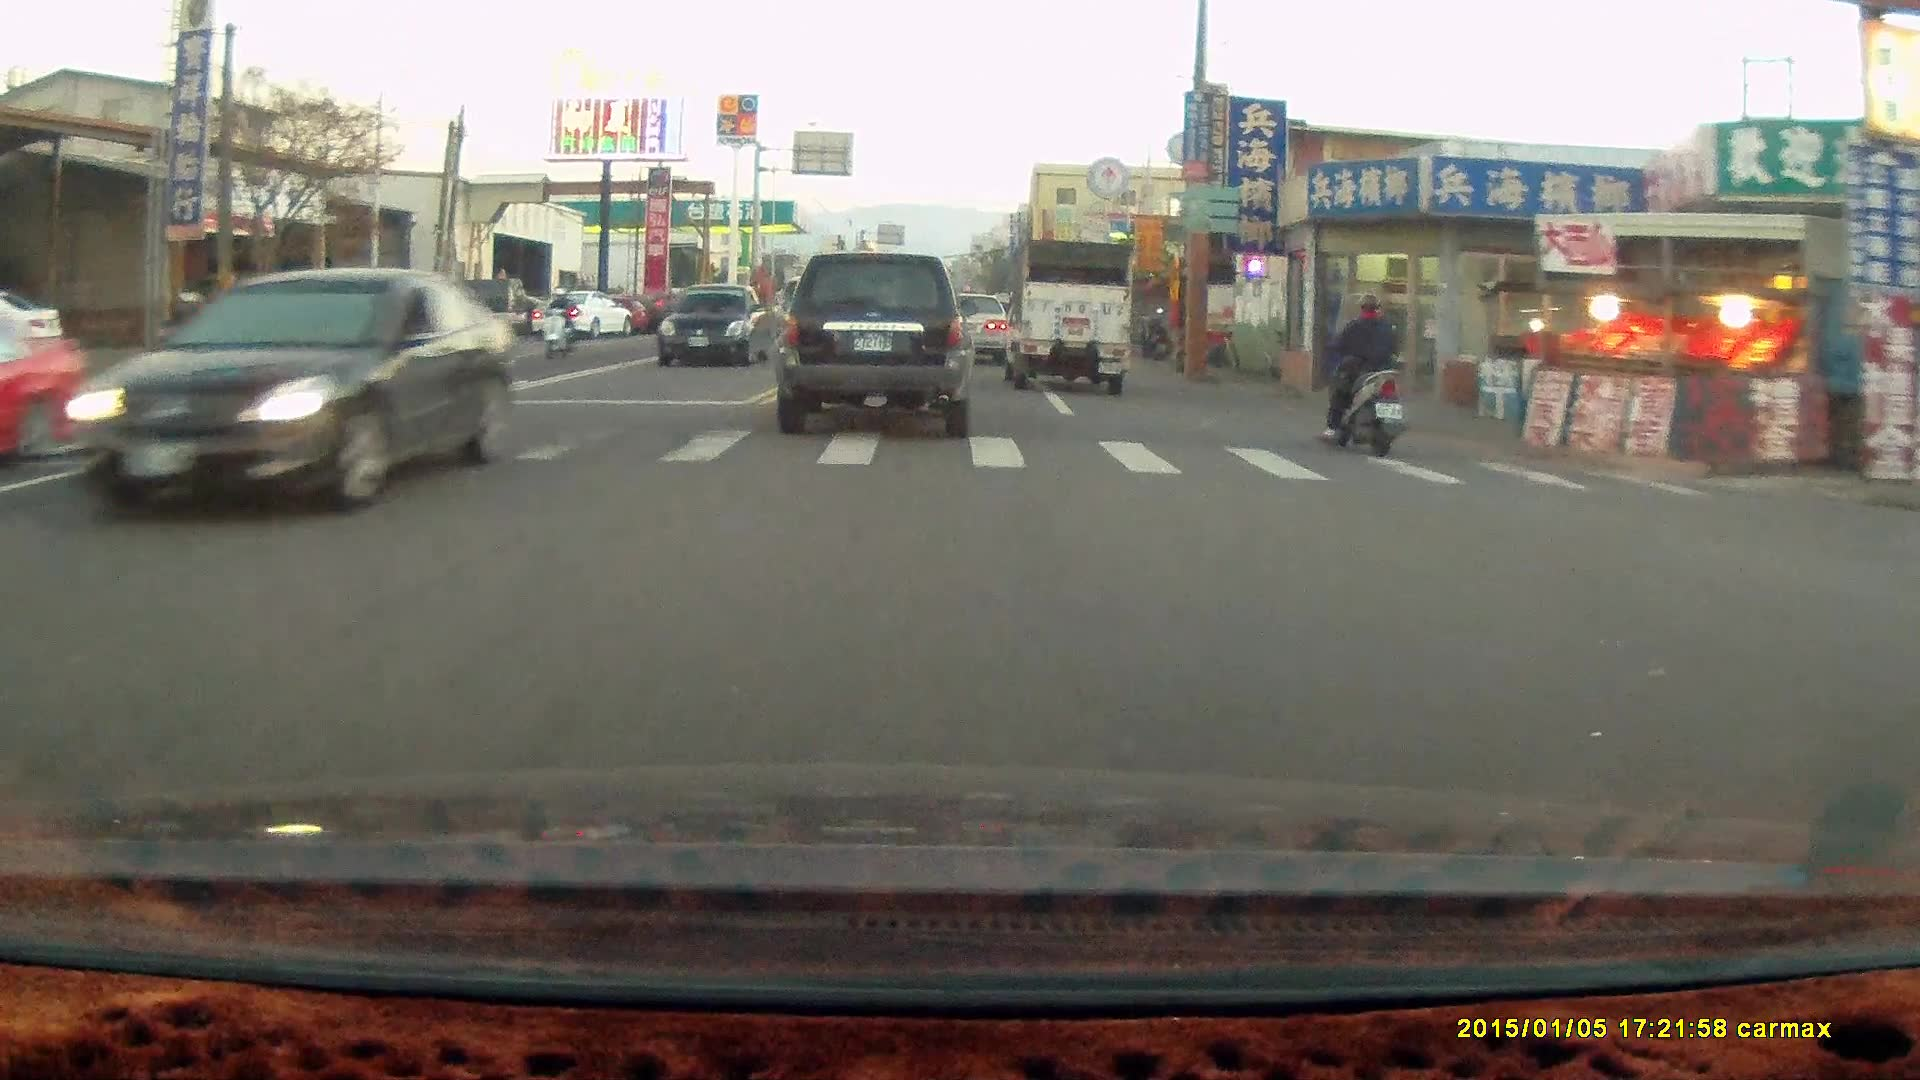rider: (1316, 292, 1408, 458), (538, 282, 579, 358)
vehicle: (57, 266, 510, 516), (774, 251, 979, 437), (1000, 235, 1136, 394), (1, 291, 91, 473), (659, 283, 771, 371), (1, 287, 79, 366), (934, 289, 1010, 363)
